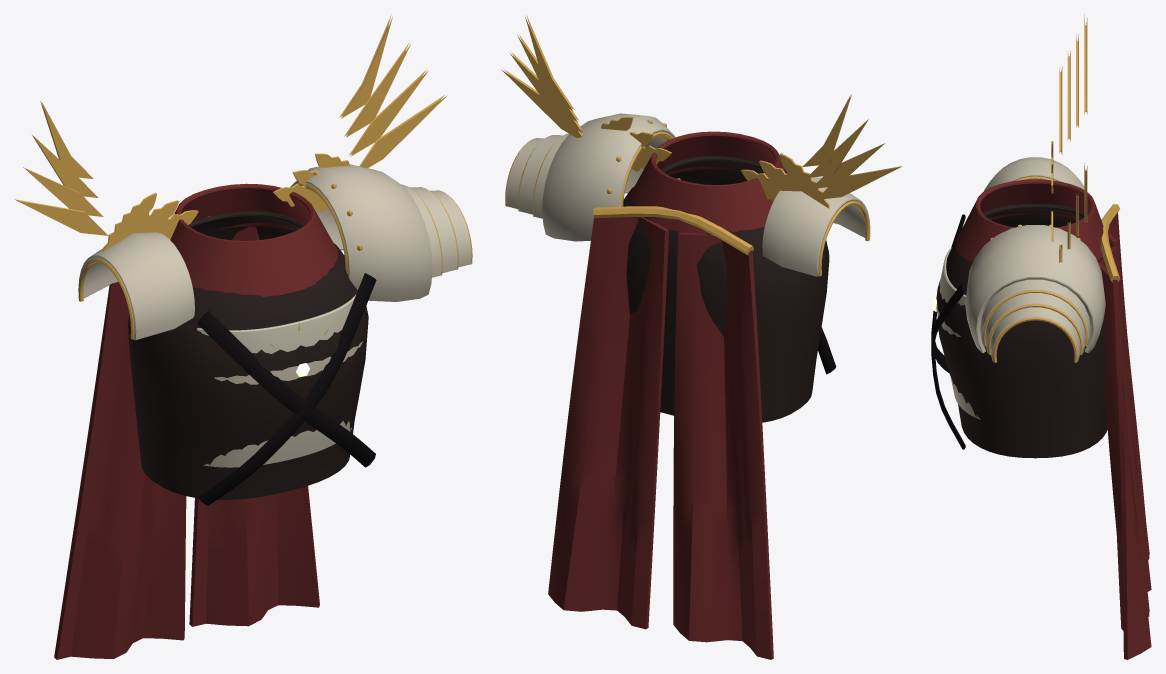
Rendered from asc_penitent_talon_armor.glb.
3 renders of one model, left to right at view 1: azimuth 30°, elevation 25°; view 2: azimuth 150°, elevation 25°; view 3: azimuth 270°, elevation 25°, orthographic. The views are drawn at different scales.
Parts seen in each view (by area): view 1: asc_penitent_talon_armor, AT_upper_arm_L, AT_upper_arm_R; view 2: asc_penitent_talon_armor, AT_upper_arm_L, AT_upper_arm_R; view 3: asc_penitent_talon_armor, AT_upper_arm_L, AT_upper_arm_R.
Boxes of the visible parts, x1,y1,x2,y2 form: asc_penitent_talon_armor: (15,15,447,659); AT_upper_arm_L: (273,153,472,301); AT_upper_arm_R: (78,192,198,340); asc_penitent_talon_armor: (502,15,902,659); AT_upper_arm_L: (505,113,680,241); AT_upper_arm_R: (740,153,870,276); asc_penitent_talon_armor: (931,14,1151,659); AT_upper_arm_L: (965,211,1105,362); AT_upper_arm_R: (984,141,1084,193).
Bounding box in the file's own units: 1.03 × 1.36 × 0.5234.
